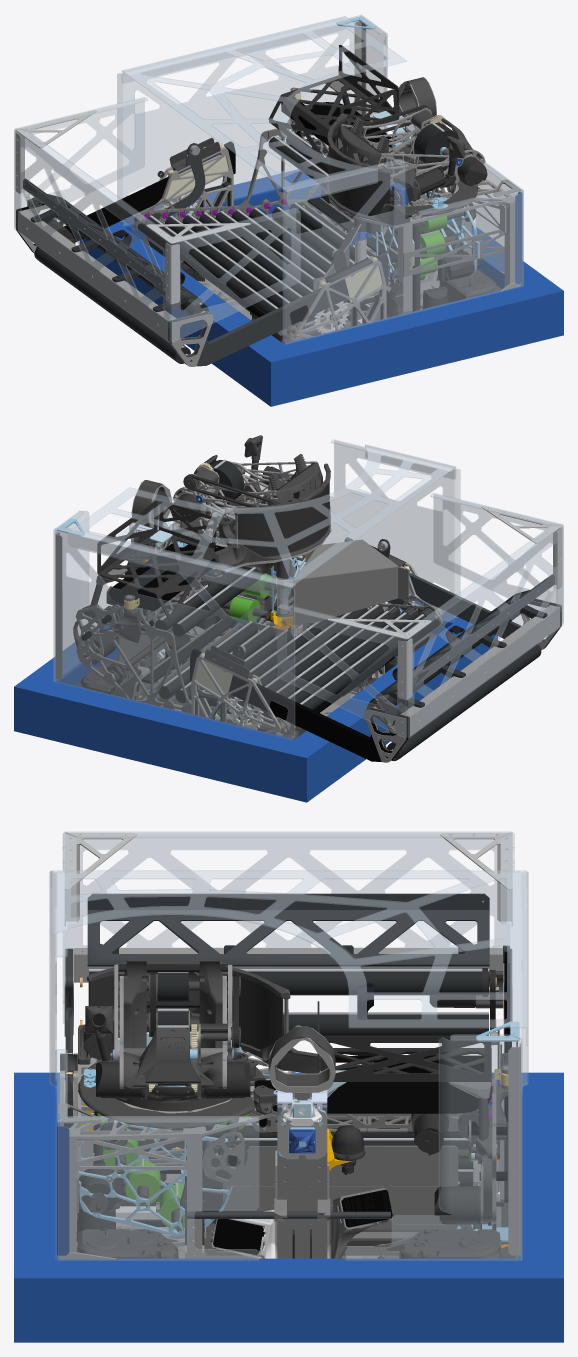
File: robot.glb
The picture shows the model from 3 angles, top to bottom: view 1: azimuth 30°, elevation 25°; view 2: azimuth 150°, elevation 25°; view 3: azimuth 270°, elevation 25°; orthographic projection. The views are drawn at different scales.
Visible parts, largest first — view 1: panels/Part 33, carriage/1690-26-251-15A, bumper-side (×2), top/Part 51, bumper-end (×2), body/1690-26-411-08A, body/Part 39, carriage/1690-26-252-04, body/Part 36, carriage/1690-26-251-07A, body/Part 8, carriage/1690-26-251-16A (+33 smaller); view 2: panels/Part 33, carriage/1690-26-251-15A, top/Part 51, bumper-side, body/Part 36, body/1690-26-411-08A, bumper-end (×2), carriage/1690-26-251-07A, carriage/1690-26-252-04, body/Part 8, body/Part 39, carriage/1690-26-251-01A (+33 smaller); view 3: panels/Part 33, bumper-end (×2), top/Part 51, body/Part 36, carriage/1690-26-252-04, carriage/1690-26-251-15A, body/1690-26-411-08A, bumper-side (×2), body/Part 39, body/Part 8, turret/1690-26-423-07A-Mirrored, body/1690-26-423-09A (+26 smaller).
Part boxes in pixels (left/top/right/bottom): panels/Part 33: left=117, top=14, right=523, bottom=344; carriage/1690-26-251-15A: left=14, top=97, right=300, bottom=342; bumper-side (×2): left=118, top=169, right=535, bottom=399; top/Part 51: left=122, top=16, right=406, bottom=204; bumper-end (×2): left=79, top=217, right=563, bottom=406; body/1690-26-411-08A: left=157, top=45, right=482, bottom=317; body/Part 39: left=141, top=21, right=520, bottom=337; carriage/1690-26-252-04: left=23, top=178, right=388, bottom=366; body/Part 36: left=134, top=80, right=520, bottom=340; carriage/1690-26-251-07A: left=17, top=205, right=213, bottom=366; body/Part 8: left=291, top=110, right=509, bottom=322; carriage/1690-26-251-16A: left=15, top=110, right=250, bottom=304; panels/Part 33: left=53, top=439, right=460, bottom=739; carriage/1690-26-251-15A: left=277, top=493, right=563, bottom=737; top/Part 51: left=67, top=444, right=455, bottom=600; bumper-side: left=42, top=682, right=294, bottom=795; body/Part 36: left=75, top=508, right=443, bottom=735; body/1690-26-411-08A: left=84, top=472, right=397, bottom=699; bumper-end (×2): left=14, top=618, right=497, bottom=802; carriage/1690-26-251-07A: left=364, top=598, right=559, bottom=762; carriage/1690-26-252-04: left=344, top=537, right=561, bottom=701; body/Part 8: left=73, top=463, right=435, bottom=705; body/Part 39: left=55, top=495, right=438, bottom=733; carriage/1690-26-251-01A: left=190, top=649, right=409, bottom=762; panels/Part 33: left=49, top=871, right=528, bottom=1260; bumper-end (×2): left=14, top=1072, right=563, bottom=1342; top/Part 51: left=51, top=870, right=526, bottom=1045; body/Part 36: left=58, top=990, right=501, bottom=1258; carriage/1690-26-252-04: left=65, top=893, right=489, bottom=1117; carriage/1690-26-251-15A: left=62, top=831, right=514, bottom=1023; body/1690-26-411-08A: left=76, top=972, right=503, bottom=1258; bumper-side (×2): left=14, top=1092, right=563, bottom=1258; body/Part 39: left=58, top=1043, right=520, bottom=1259; body/Part 8: left=78, top=967, right=508, bottom=1251; turret/1690-26-423-07A-Mirrored: left=85, top=959, right=258, bottom=1111; body/1690-26-423-09A: left=111, top=1055, right=507, bottom=1254.
Bounding box in the file's own units: 1.01 × 0.5512 × 0.889.
